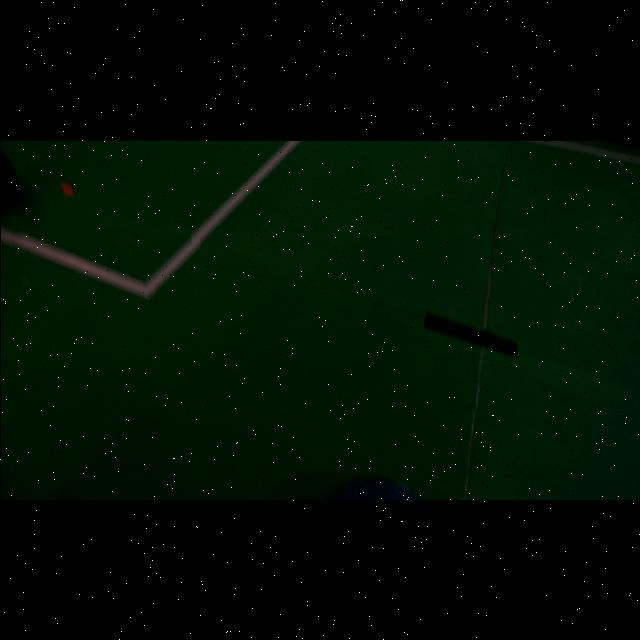B: (325, 476, 422, 500)
